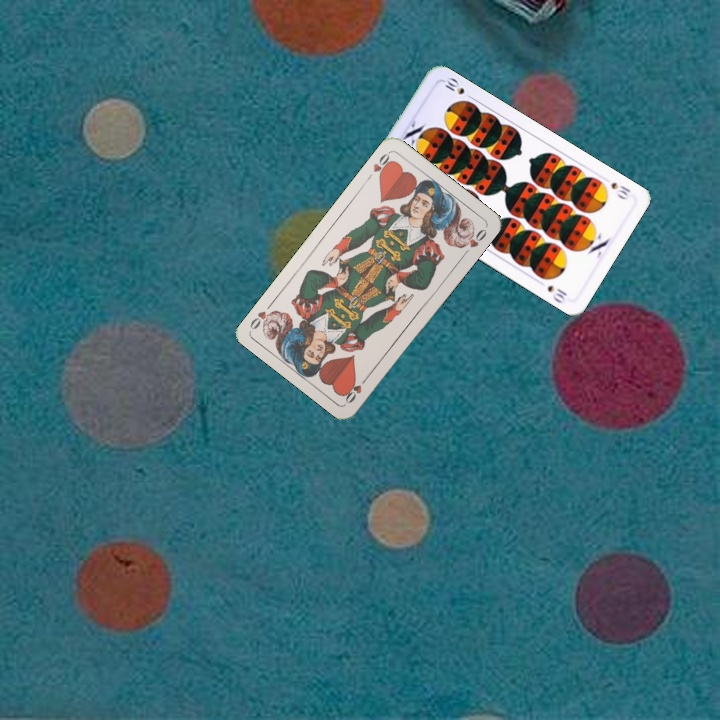HO: (362, 149, 395, 183), (341, 372, 372, 406)
S10: (607, 178, 633, 202)
